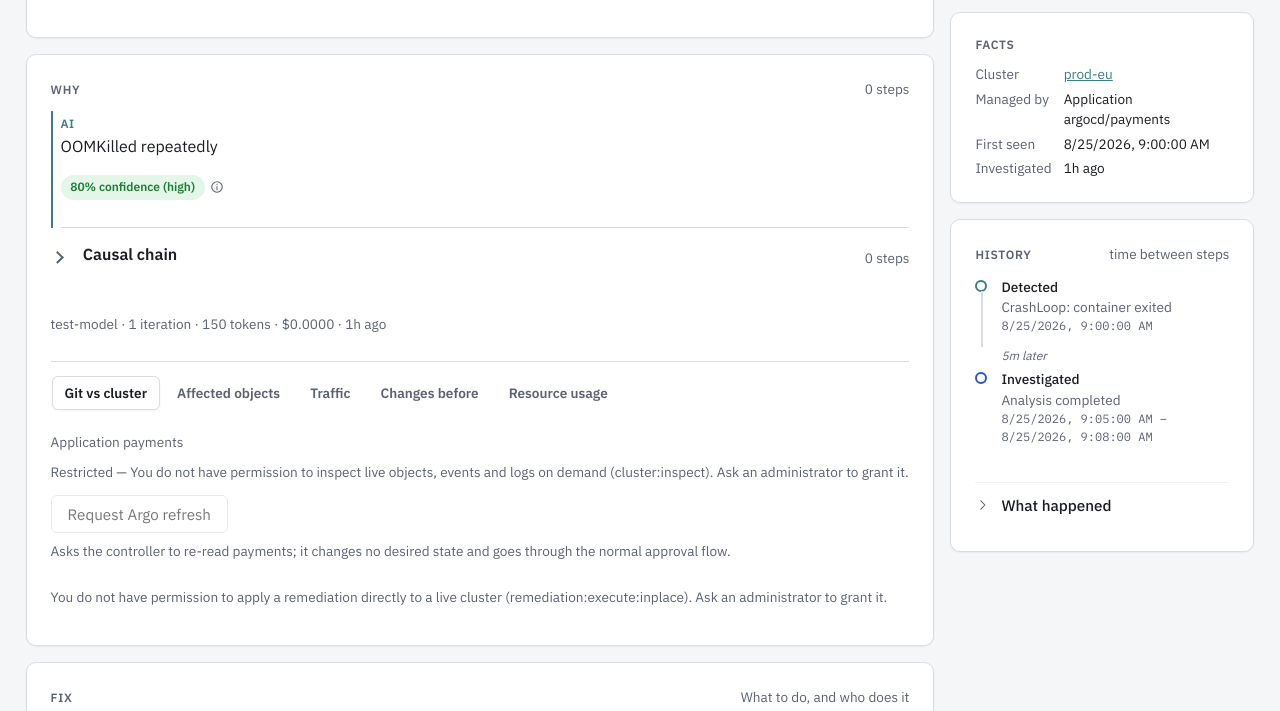
Scenario: IncidentDetailPage — real timeline inside "What happened" (BACKLOG.md B1) › renders events in the order the hub returns them, with real relative timestamps
(page scrolled)
Click the button "What happened": (1102, 505) [975,482,1229,528]
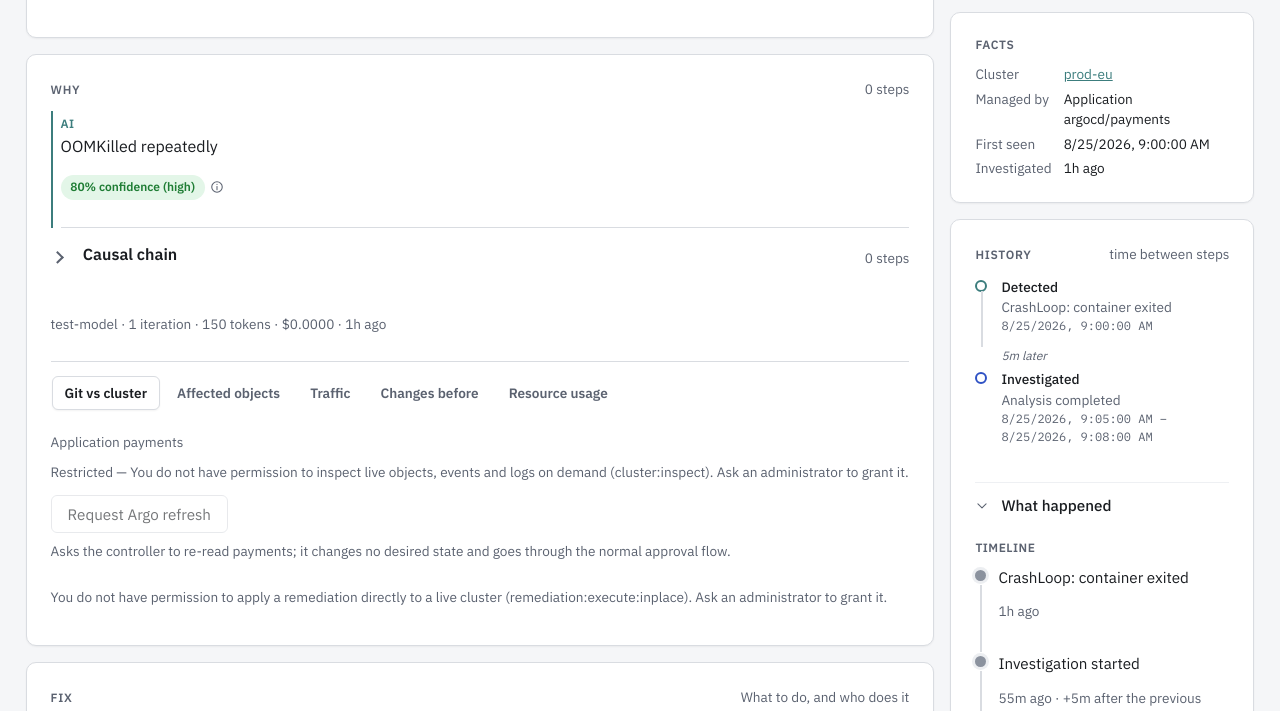
Expected: the text "1h ago" below "Timeline" is shown, [998,603,1040,621]
